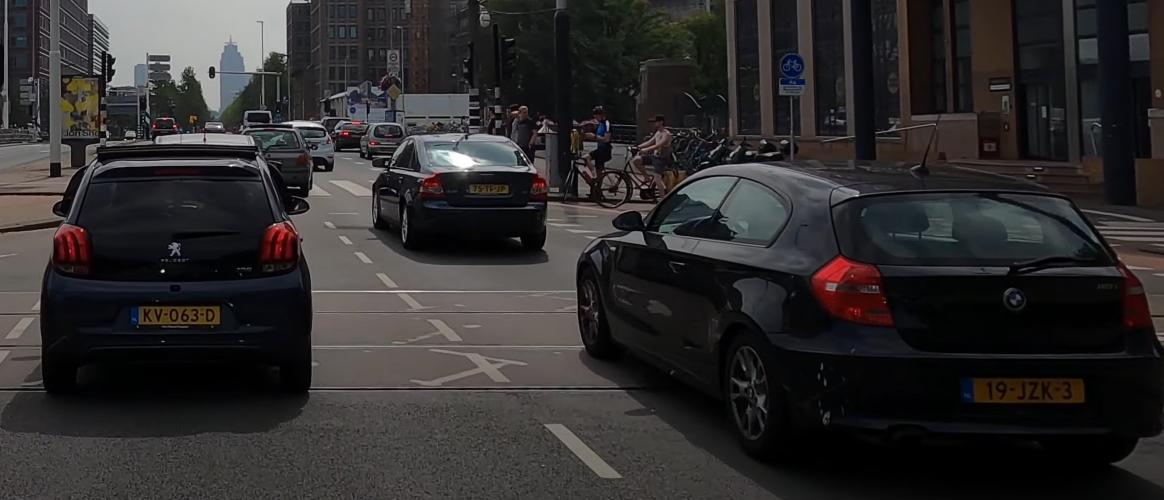license-plate: (961, 377, 1091, 406), (129, 305, 223, 330), (466, 183, 509, 195)
